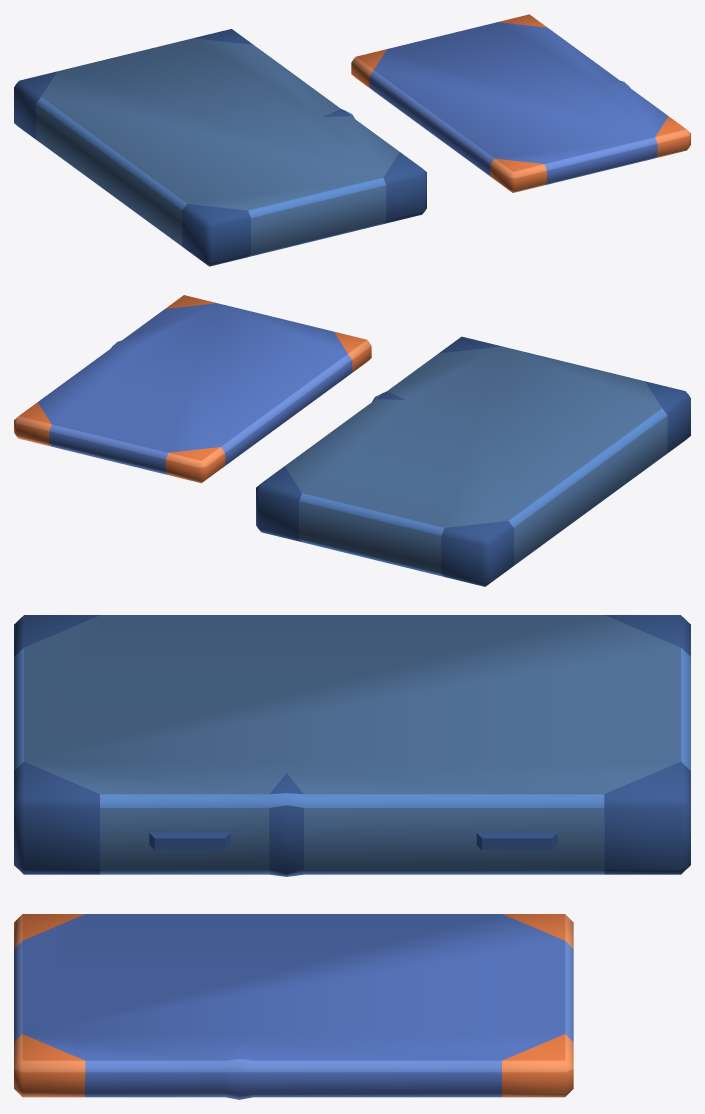
File: Yastıklar.fbx
3 views of the same model, one above another, from view 1: azimuth 30°, elevation 25°; view 2: azimuth 150°, elevation 25°; view 3: azimuth 270°, elevation 25° (orthographic). The views are drawn at different scales.
Visible parts, largest first — view 1: Yastık2, Yastık1; view 2: Yastık2, Yastık1; view 3: Yastık2, Yastık1.
Part boxes in pixels (x1,y1,x2,y2): Yastık2: (14,29,426,266); Yastık1: (351,14,690,192); Yastık2: (256,336,690,586); Yastık1: (14,295,371,483); Yastık2: (14,615,690,876); Yastık1: (14,914,573,1099).
Size of the model in its own units: 3.78 by 0.3628 by 2.64.
